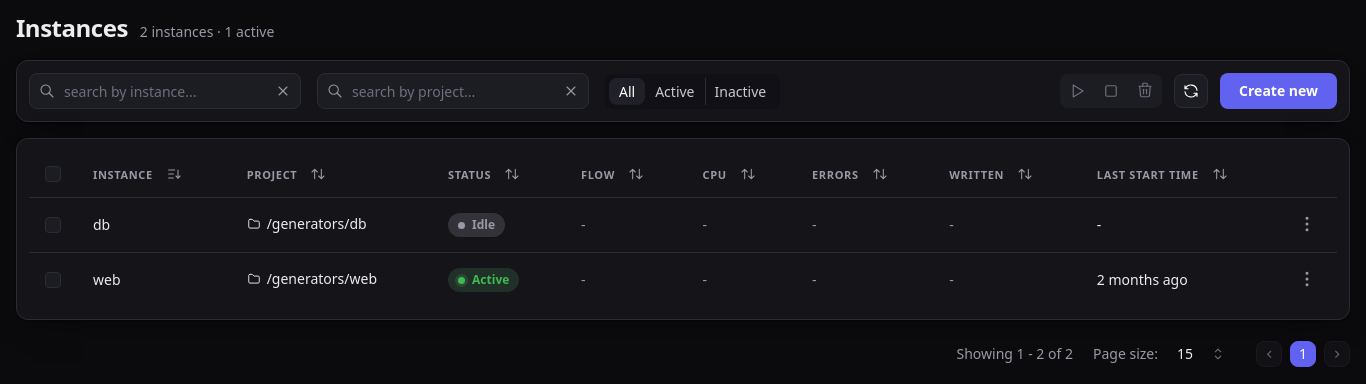
Test case: InstancesPage › offers them once a row is selected
Click the checkbox in the row of "/generators/db" at (53, 225), box 45,217 -> 61,233
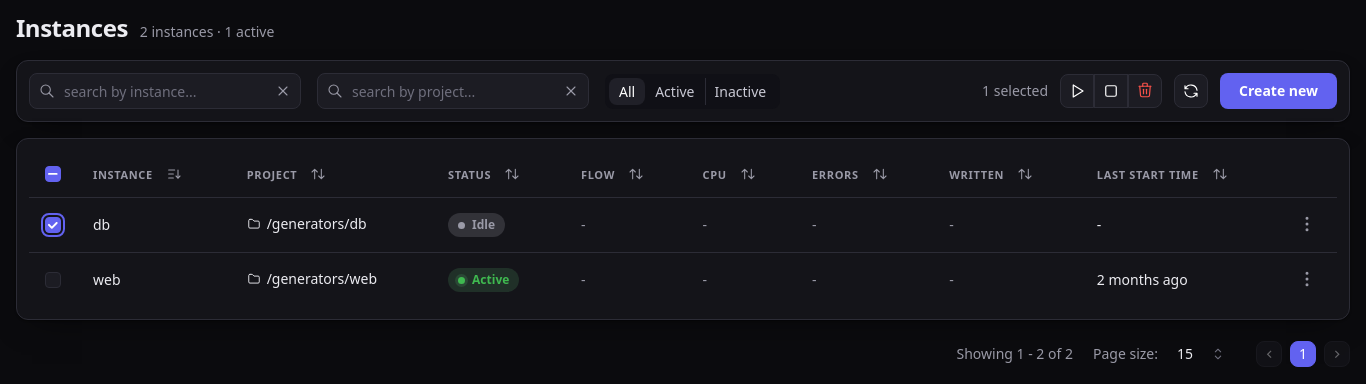
Now the button named "Start selected" is enabled, box 1060,74 -> 1094,108
Now the text "1 selected" is shown, box 982,81 -> 1048,102
